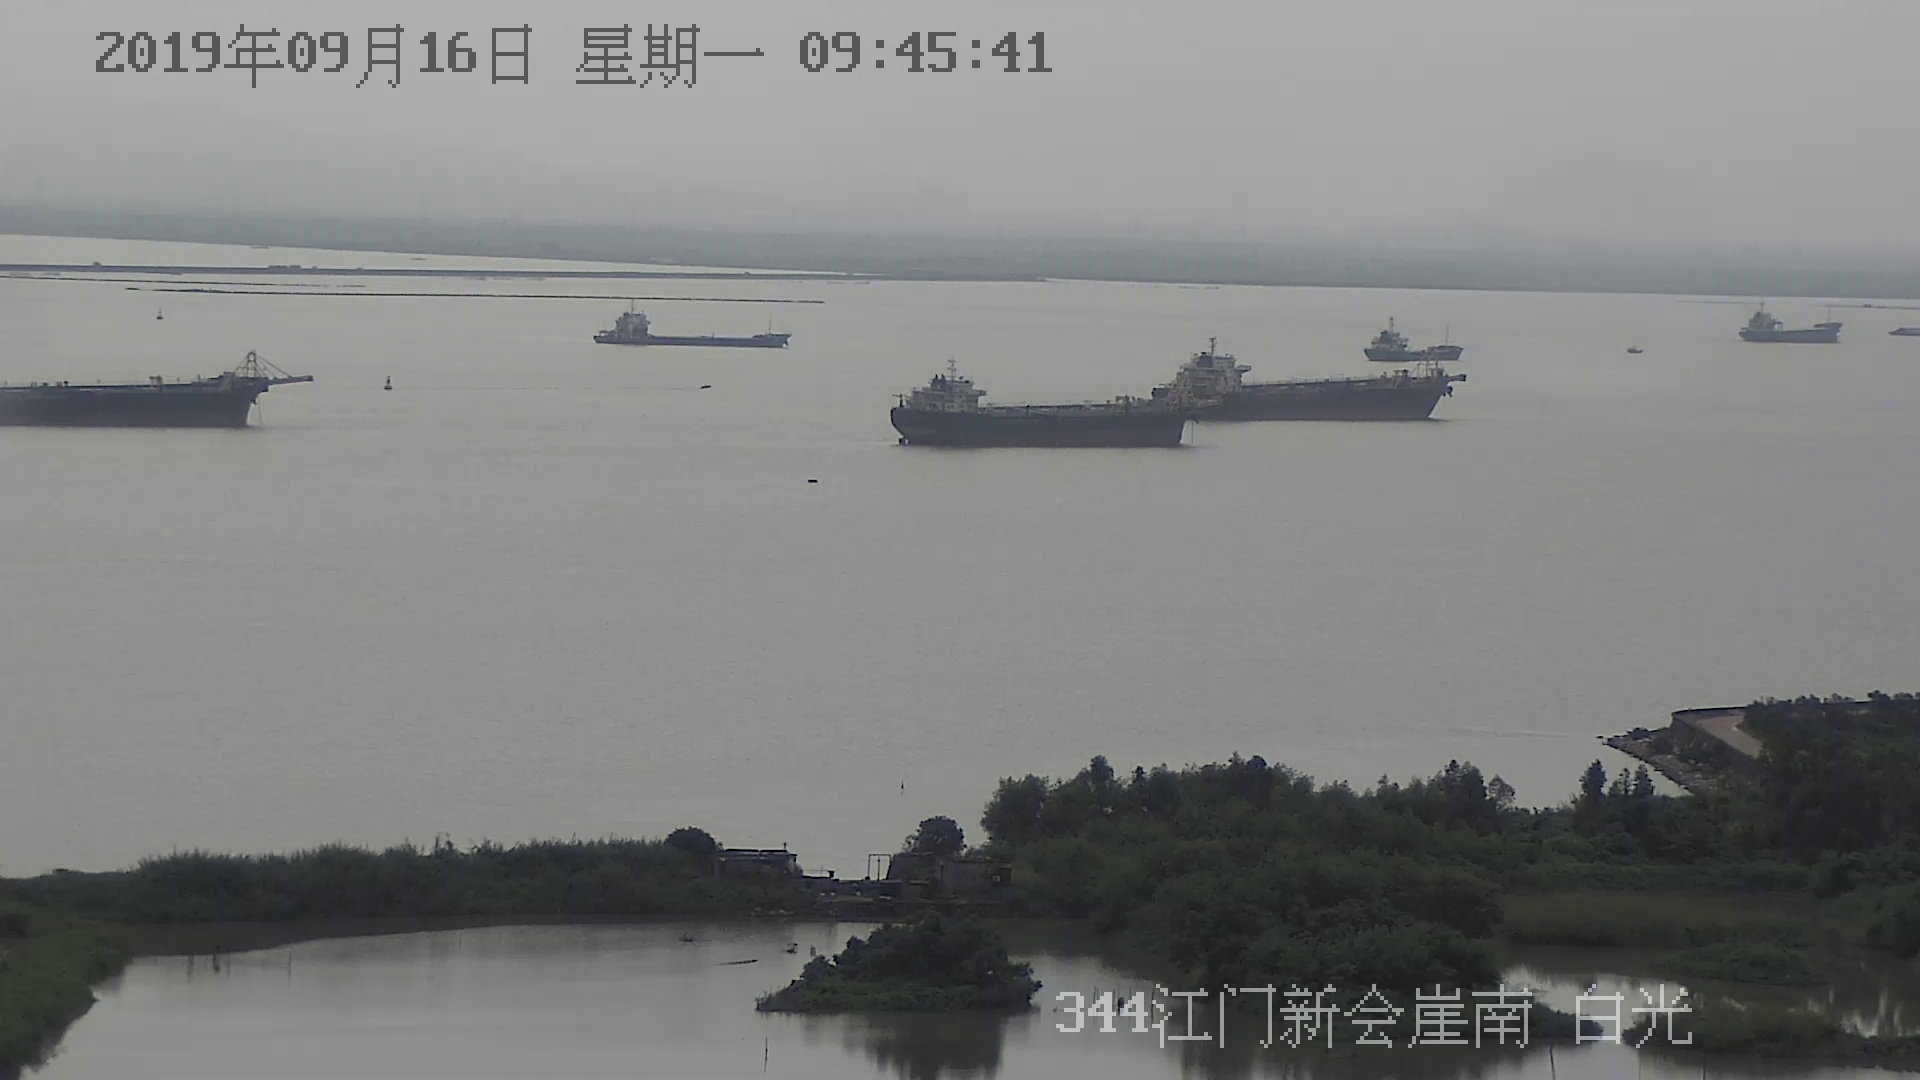ship: (881, 353, 1212, 448), (1145, 340, 1455, 425), (3, 349, 295, 427), (585, 299, 791, 353), (1364, 319, 1466, 371), (1738, 313, 1841, 345)
